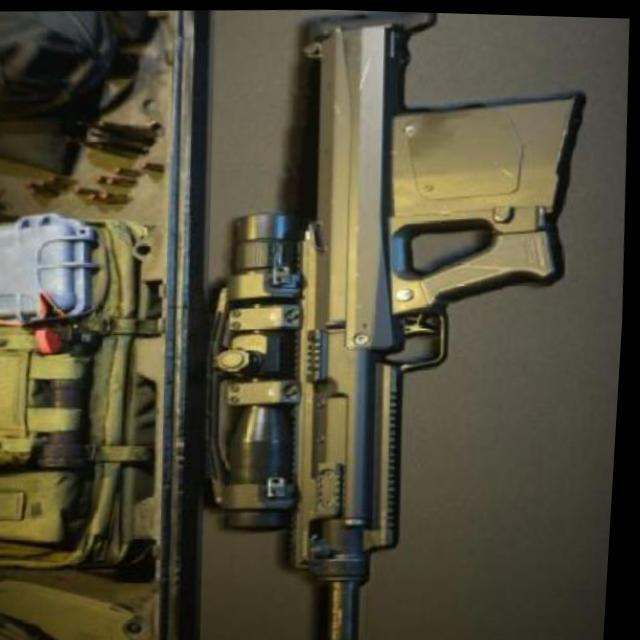weapon: (181, 5, 608, 640)
